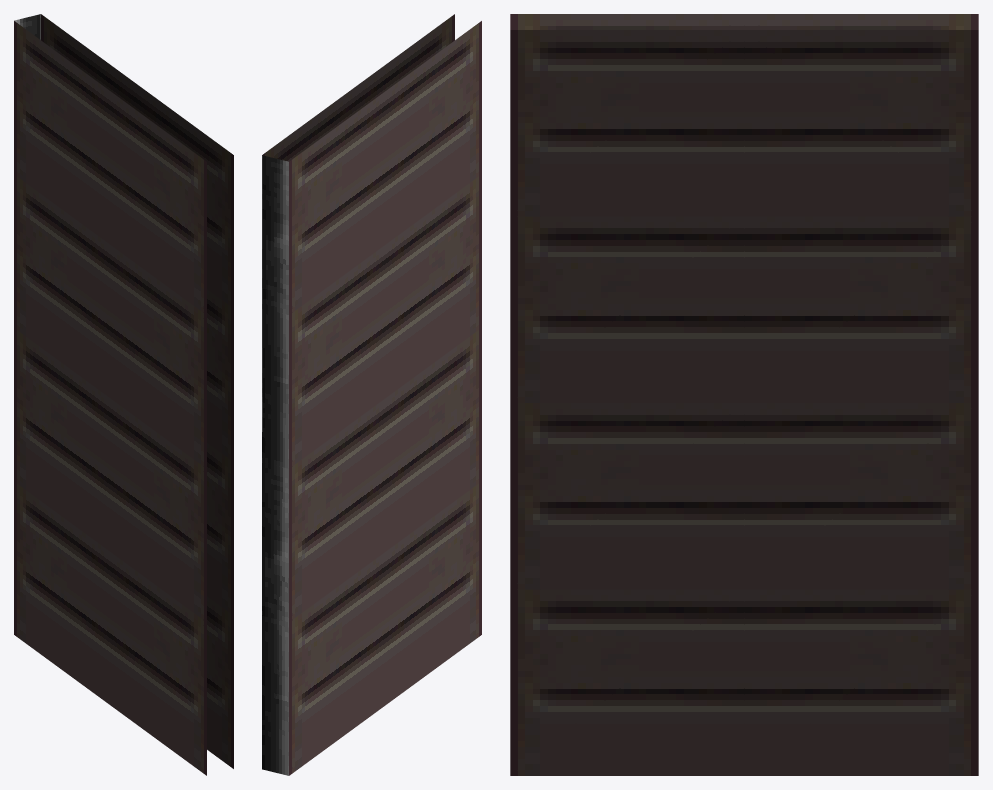
File: primary_17.glb
3 views of the same model, side by side, from view 1: azimuth 30°, elevation 25°; view 2: azimuth 150°, elevation 25°; view 3: azimuth 270°, elevation 25° (orthographic). The views are drawn at different scales.
Parts seen in each view (by area): view 1: Object; view 2: Object; view 3: Object.
Boxes of the visible parts, x1,y1,x2,y2 form: Object: (14, 14, 233, 775); Object: (262, 14, 481, 775); Object: (510, 14, 978, 775).
Size of the model in its own units: 0.144 by 3.12 by 1.78.
Materials: 3 (3 with a texture image).
